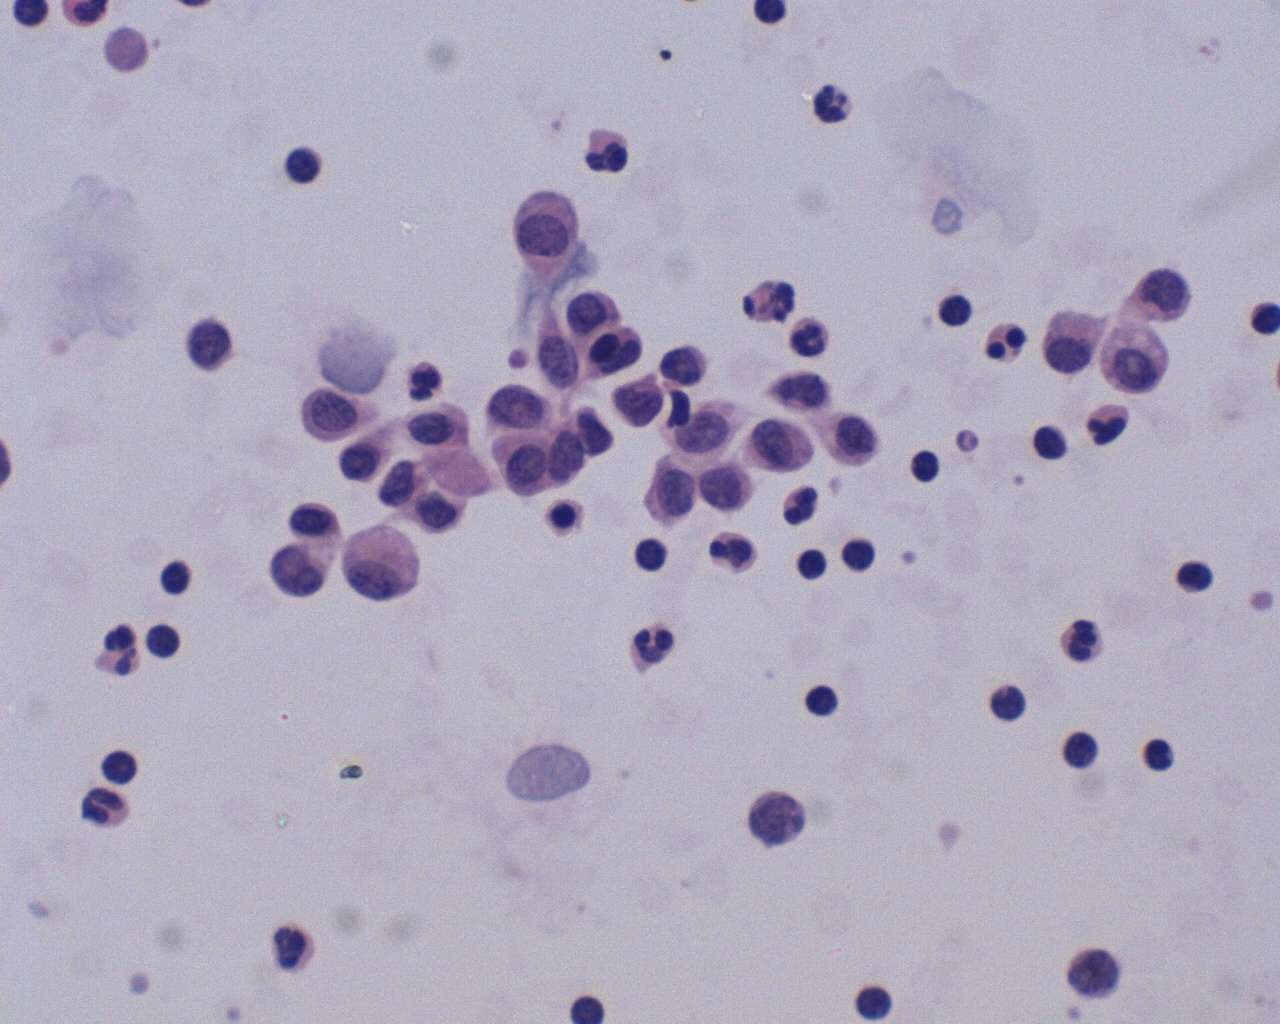ab: (506, 184, 600, 283), (298, 378, 385, 451), (738, 417, 825, 482), (1128, 265, 1204, 323), (479, 381, 564, 432), (646, 458, 702, 531), (608, 376, 670, 432)
lymph: (626, 533, 675, 582), (140, 620, 190, 664), (1055, 729, 1107, 772), (97, 740, 144, 786), (148, 552, 194, 597), (1173, 555, 1216, 602), (931, 287, 974, 333), (802, 679, 843, 722), (790, 546, 830, 586), (908, 448, 944, 485)
meso: (342, 519, 424, 606)
neutro: (700, 522, 767, 578), (264, 915, 320, 978), (1053, 614, 1110, 672), (628, 615, 682, 672), (1075, 403, 1138, 447), (810, 77, 856, 131), (402, 355, 450, 405), (778, 482, 827, 530), (785, 315, 834, 360)
